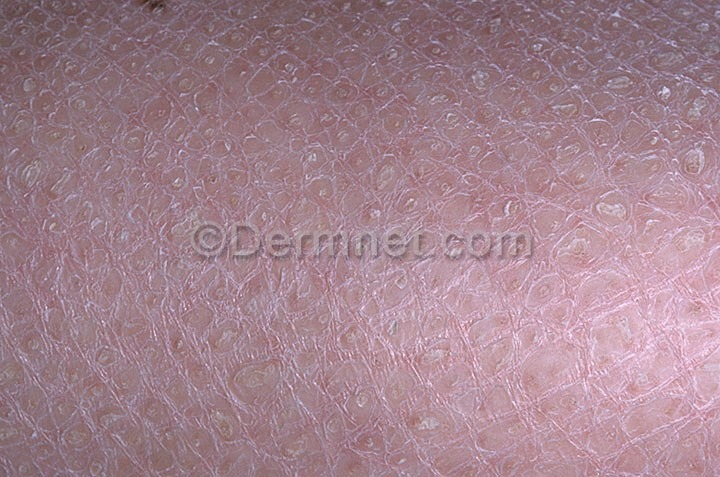Eczema: (2, 2, 720, 477)
